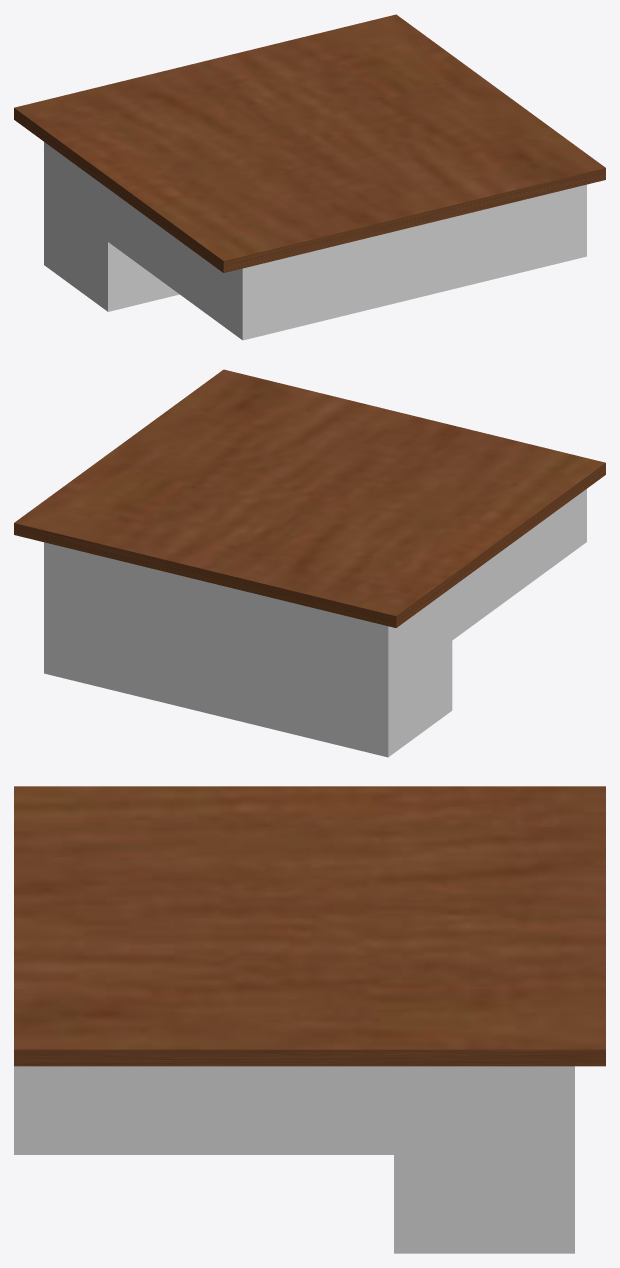
The model's file is LandingFull2.glb.
3 renders of one model, top to bottom at view 1: azimuth 30°, elevation 25°; view 2: azimuth 150°, elevation 25°; view 3: azimuth 270°, elevation 25°, orthographic. The views are drawn at different scales.
Visible parts, largest first — view 1: Cube, Cube.002; view 2: Cube, Cube.002; view 3: Cube, Cube.002.
Part boxes in pixels (x1,y1,x2,y2): Cube: (14, 14, 605, 272); Cube.002: (44, 142, 586, 340); Cube: (14, 369, 605, 627); Cube.002: (44, 489, 586, 757); Cube: (14, 786, 605, 1066); Cube.002: (14, 1066, 574, 1253).
Bounding box in the file's own units: 1 × 0.385 × 0.95.
2 materials, 1 textured.
